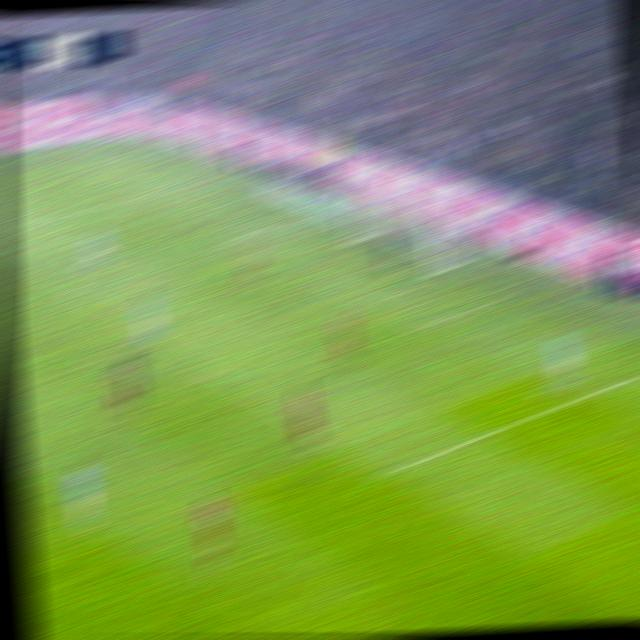bigarea_bottom_inner: (369, 461, 402, 486)
bigarea_top_outter: (194, 172, 221, 189)
bottom_arc_area_intersection: (202, 363, 232, 384)
corner: (93, 136, 121, 146)
smallarea_bottom_inner: (406, 313, 437, 338)
smallarea_bottom_outter: (487, 289, 514, 306)
smallarea_top_inner: (214, 230, 242, 246)
smallarea_top_outter: (287, 211, 315, 227)
top_arc_area_intersection: (59, 281, 91, 304)
